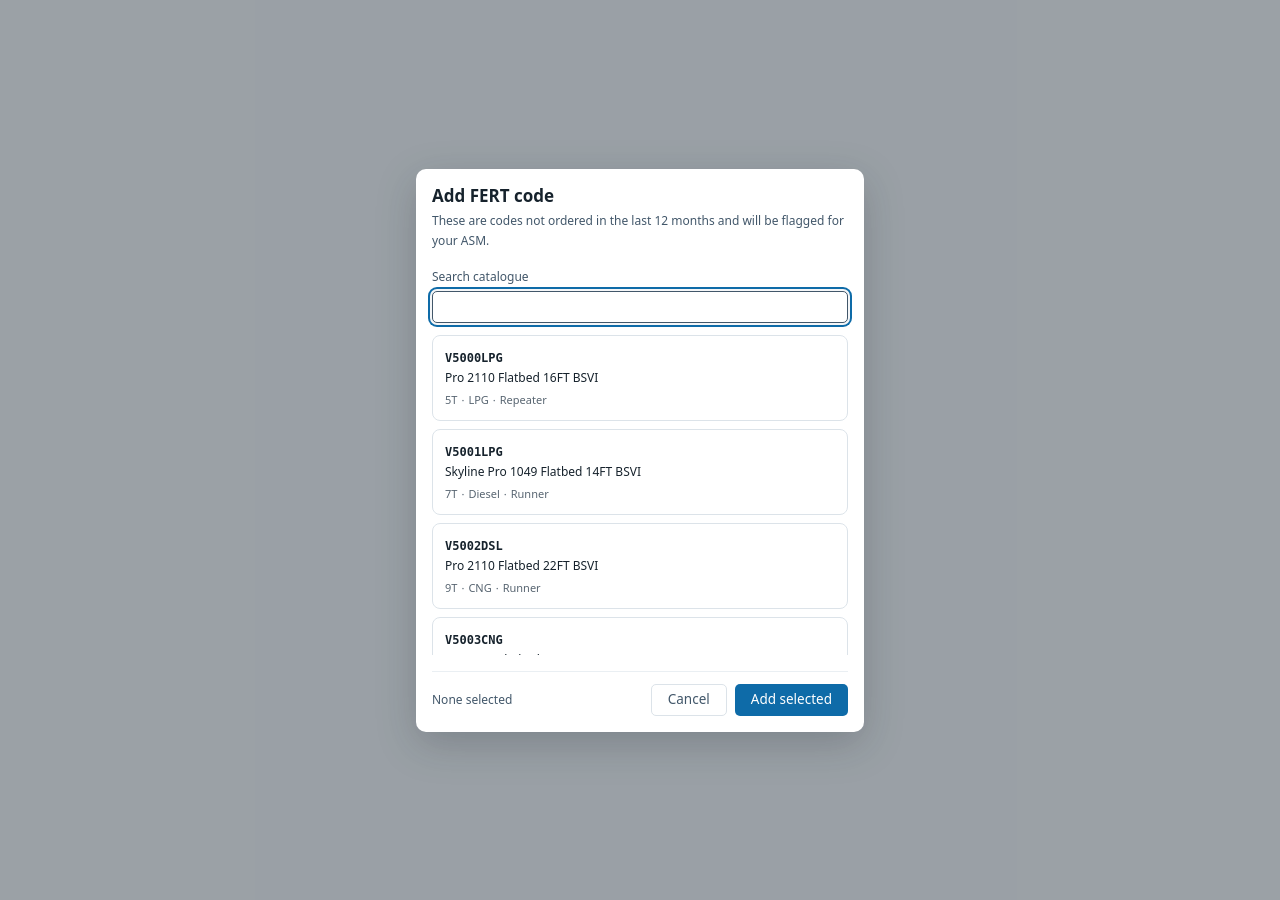
Test case: AddFertModal › shows a toast and closes without an inline banner when the selected product already exists
The image size is (1280, 900).
Click the button "V5000LPG Pro 2110 Flatbed 16FT BSVI 5T · LPG · Repeater" at (474, 358), box 432,334 -> 848,420
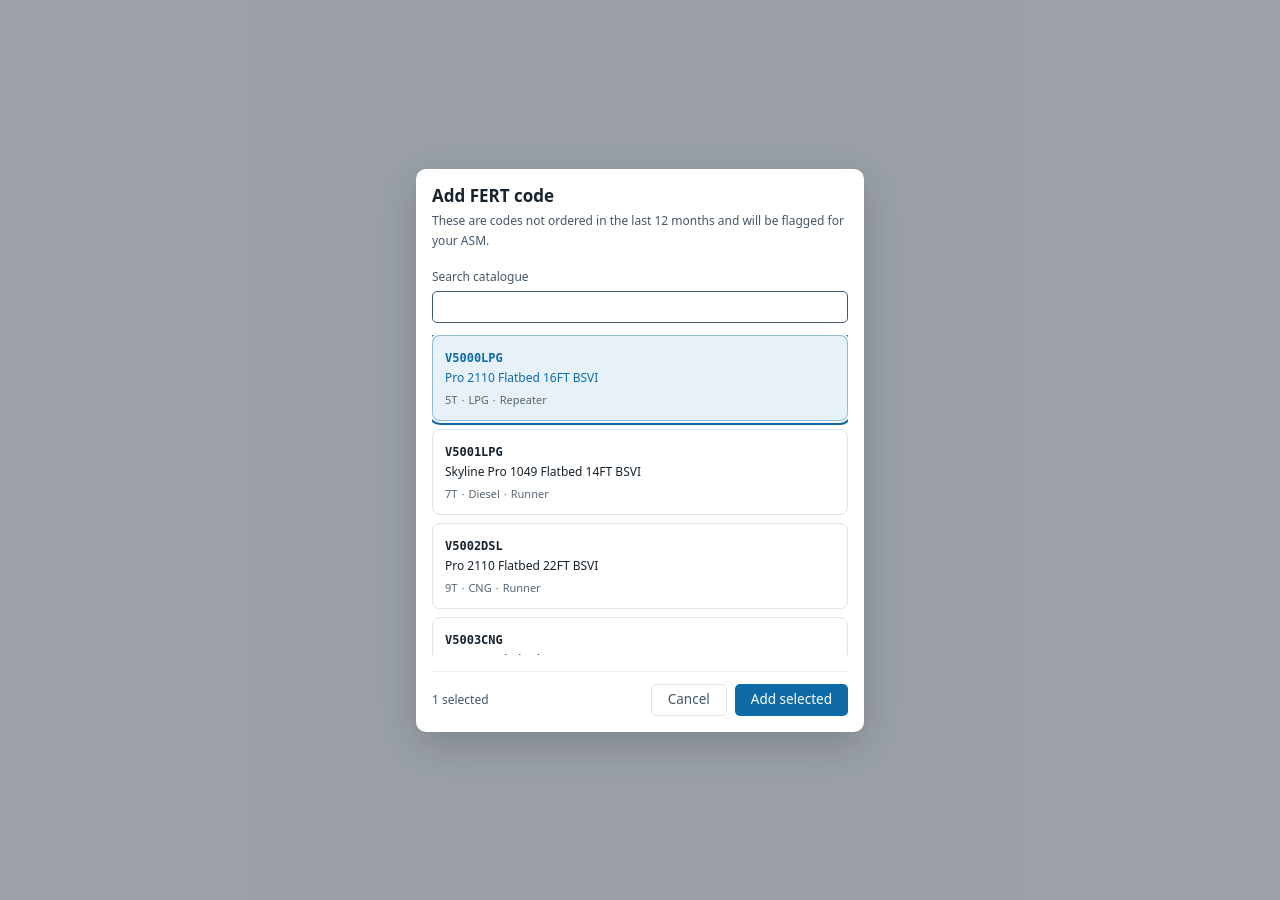
Click the button "Add selected" at (791, 700), box 735,684 -> 848,716
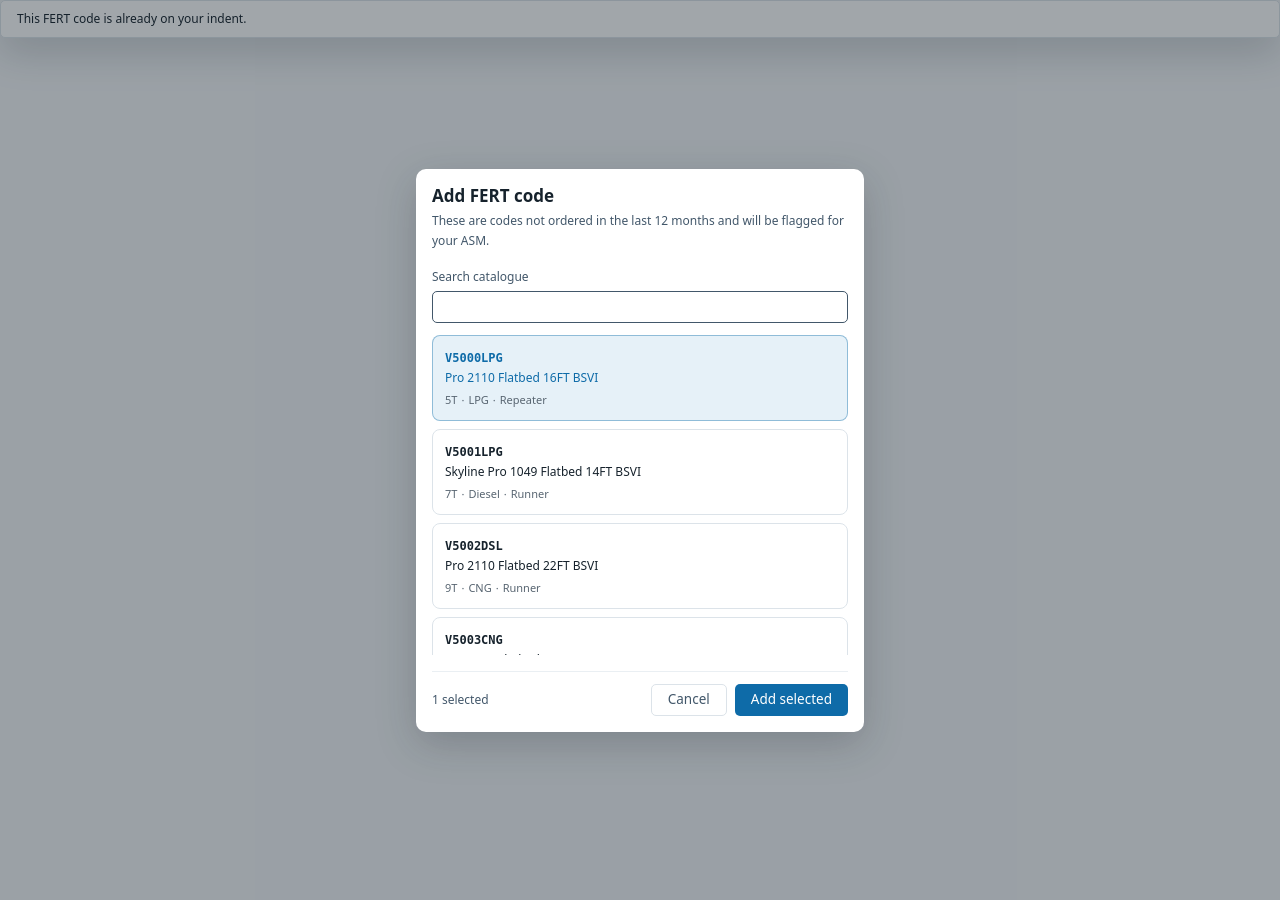
Result: the message shows "already on your indent" at 17,10 -> 246,27
